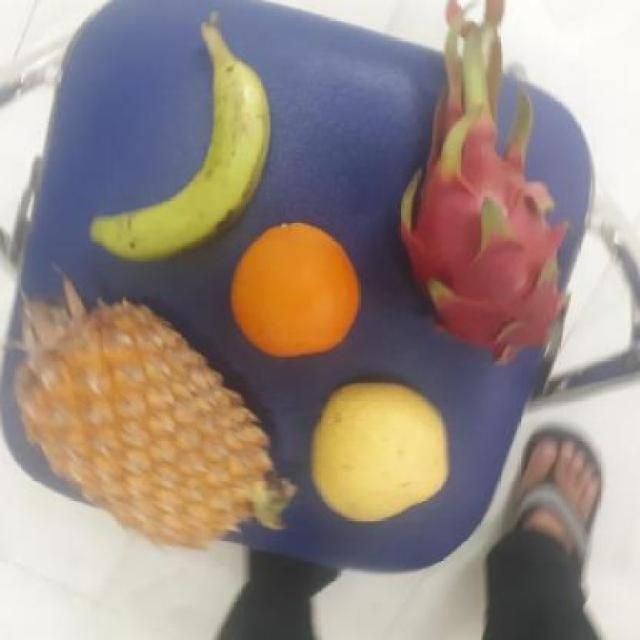banana: (83, 34, 268, 261)
dragon fruit: (384, 86, 588, 360)
oren: (229, 222, 360, 361)
pineapple: (307, 373, 448, 525)
